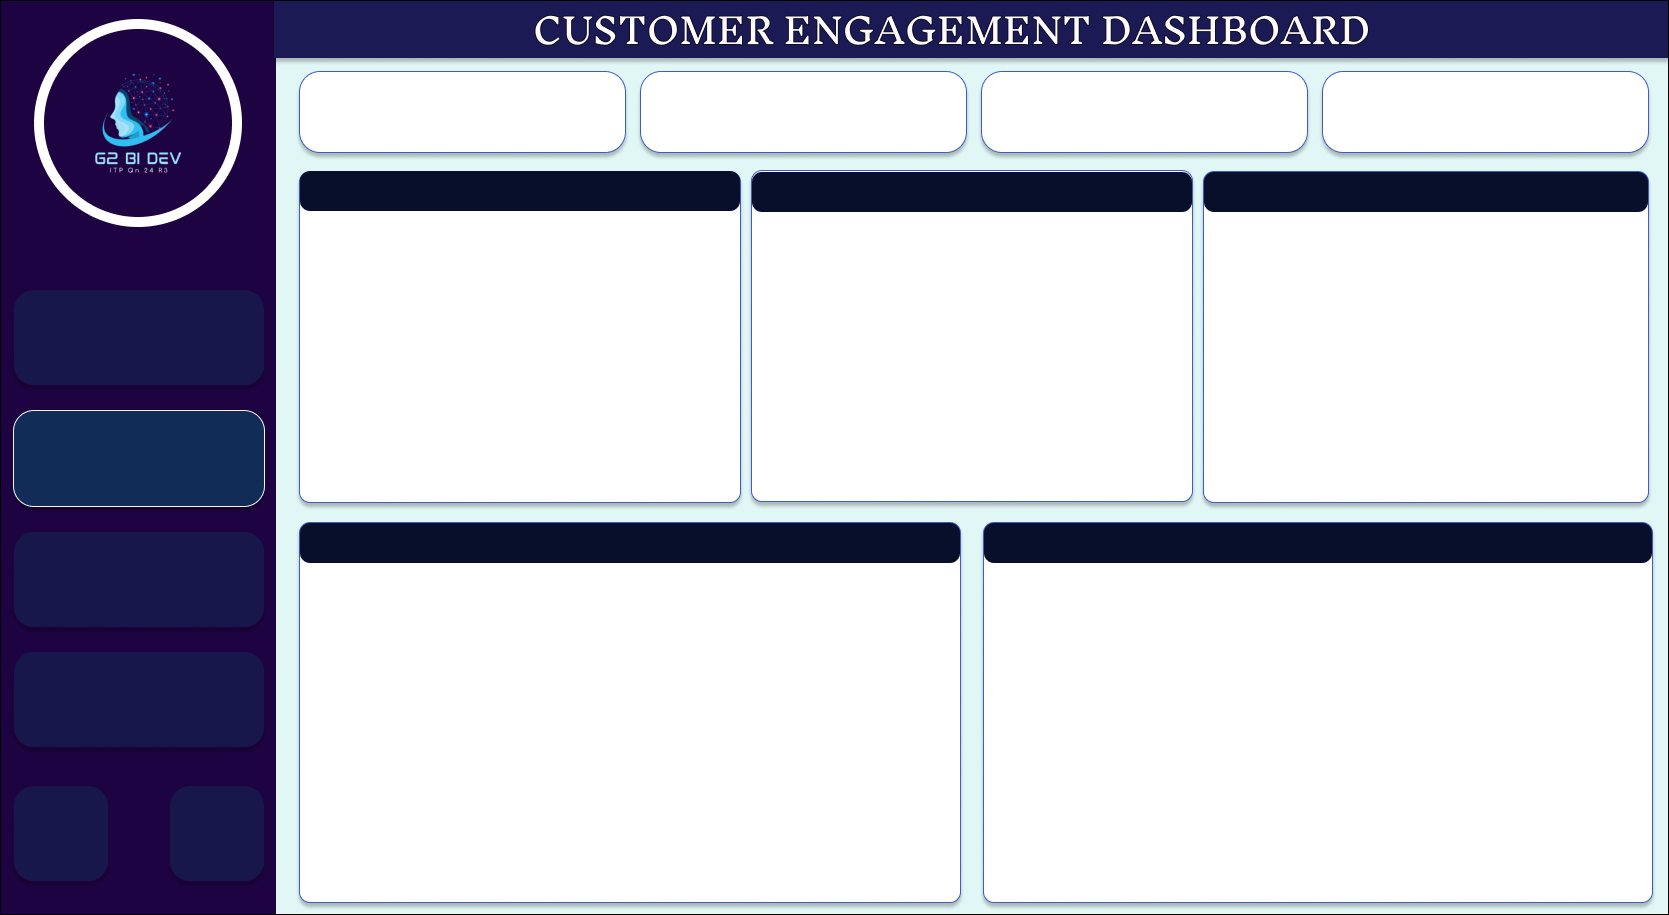

This screenshot's page, from the dashboard's own definition file:
{"tool":"tableau","page":{"name":"Customer-Dashboard","canvas":[1700,950],"ordinal":0},"visuals":[{"type":"image","param":"C:/Users/mahmo/OneDrive/Desktop/Sales/background/New folder (2)/Customer.png","box":[8,8,1684,934]},{"type":"image","param":"C:/Users/mahmo/OneDrive/Desktop/Sales-project/ICONS/count of customer.png","box":[325,84,70,80]},{"type":"image","param":"C:/Users/mahmo/OneDrive/Desktop/Sales-project/ICONS/Customer-ratio.jpg","box":[1009,84,70,80]},{"type":"image","param":"C:/Users/mahmo/OneDrive/Desktop/Sales-project/ICONS/avg-sales-per-customer.png","box":[1349,84,70,80]},{"type":"image","param":"C:/Users/mahmo/OneDrive/Desktop/Sales-project/ICONS/cities-for-customer.jpg","box":[666,85,70,80]},{"type":"worksheet","title":"2.Count-of-Customer","mark":"Automatic","box":[408,86,210,75]},{"type":"worksheet","title":"2.Cities For Customer","mark":"Automatic","box":[740,86,210,75]},{"type":"worksheet","title":"2.Average Return Ratio","mark":"Automatic","box":[1082,86,222,75]},{"type":"worksheet","title":"2.Avg Sales Per Customer","mark":"Automatic","box":[1421,86,227,75]},{"type":"text","box":[325,184,629,36]},{"type":"text","box":[1014,184,629,36]},{"type":"worksheet","title":"2.Customer Details","mark":"Automatic","rows":["Cust_City","Customer_BK","Calculation_1244400927322120196"],"box":[995,223,665,266]},{"type":"worksheet","title":"2.Customers Distribution onStates ","mark":"Line","rows":["Customer_BK","Customer_BK"],"cols":["Cust_City"],"box":[317,226,648,268]},{"type":"dashboard-object","box":[108,312,153,70]},{"type":"image","param":"C:/Users/mahmo/OneDrive/Desktop/Sales-project/ICONS/sales-dashboard.png","box":[30,314,70,65]},{"type":"dashboard-object","box":[108,435,153,70]},{"type":"image","param":"C:/Users/mahmo/OneDrive/Desktop/Sales-project/ICONS/customer-dashboard.png","box":[31,437,70,65]},{"type":"text","box":[1007,525,642,36]},{"type":"text","box":[326,526,294,36]},{"type":"text","box":[652,526,309,36]},{"type":"dashboard-object","box":[108,556,153,69]},{"type":"image","param":"C:/Users/mahmo/OneDrive/Desktop/Sales-project/ICONS/operational-dashboard.png","box":[34,561,70,62]},{"type":"worksheet","title":"2.Customers count over time","mark":"Automatic","rows":["Customer_BK","Customer_BK"],"cols":["Date"],"box":[649,564,314,279]},{"type":"worksheet","title":"2.Delivary State","mark":"Automatic","rows":["Calculation_1244400927306526721","Calculation_1244400927306526721"],"cols":["Delivery_Status"],"box":[1000,571,655,276]},{"type":"worksheet","title":"2.Customer Segment","mark":"Pie","box":[317,572,312,271]},{"type":"image","param":"C:/Users/mahmo/OneDrive/Desktop/Sales-project/ICONS/geo-dashboard.png","box":[31,676,70,65]},{"type":"dashboard-object","box":[108,676,153,69]},{"type":"image","param":"C:/Users/mahmo/OneDrive/Desktop/Sales-project/ICONS/github-mark-white.png","box":[38,809,63,70]},{"type":"dashboard-object","box":[197,812,63,70]},{"type":"filter","title":"2.Customers count over time","param":"[federated.0a7f3eg1xpprtt1e4fdhm1t957b5].[yr:Date:ok]","box":[1011,868,631,44]},{"type":"filter","title":"2.Customer Segment","param":"[federated.0a7f3eg1xpprtt1e4fdhm1t957b5].[none:Segment_Name:nk]","box":[329,870,623,44]}]}

Visuals, with their boxes in screenshot pixels (x1, y1, x2, y2), scaled from the page's 1700x950 canvas onto the 1669x915 screenshot:
image: [8, 8, 1661, 907]
image: [319, 81, 388, 158]
image: [991, 81, 1059, 158]
image: [1324, 81, 1393, 158]
image: [654, 82, 723, 159]
"2.Count-of-Customer" worksheet: [401, 83, 607, 155]
"2.Cities For Customer" worksheet: [727, 83, 933, 155]
"2.Average Return Ratio" worksheet: [1062, 83, 1280, 155]
"2.Avg Sales Per Customer" worksheet: [1395, 83, 1618, 155]
text: [319, 177, 937, 212]
text: [996, 177, 1613, 212]
"2.Customer Details" worksheet: [977, 215, 1630, 471]
"2.Customers Distribution onStates " worksheet (Line marks): [311, 218, 947, 476]
dashboard-object: [106, 301, 256, 368]
image: [29, 302, 98, 365]
dashboard-object: [106, 419, 256, 486]
image: [30, 421, 99, 484]
text: [989, 506, 1619, 540]
text: [320, 507, 609, 541]
text: [640, 507, 943, 541]
dashboard-object: [106, 536, 256, 602]
image: [33, 540, 102, 600]
"2.Customers count over time" worksheet: [637, 543, 945, 812]
"2.Delivary State" worksheet: [982, 550, 1625, 816]
"2.Customer Segment" worksheet (Pie marks): [311, 551, 618, 812]
image: [30, 651, 99, 714]
dashboard-object: [106, 651, 256, 718]
image: [37, 779, 99, 847]
dashboard-object: [193, 782, 255, 850]
"2.Customers count over time" filter: [993, 836, 1612, 878]
"2.Customer Segment" filter: [323, 838, 935, 880]
